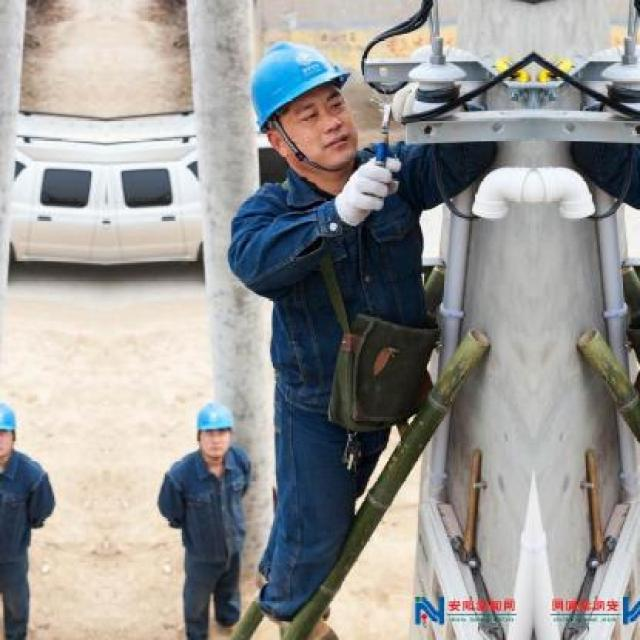helmet: (234, 21, 363, 188), (193, 401, 234, 461), (0, 400, 20, 462)
